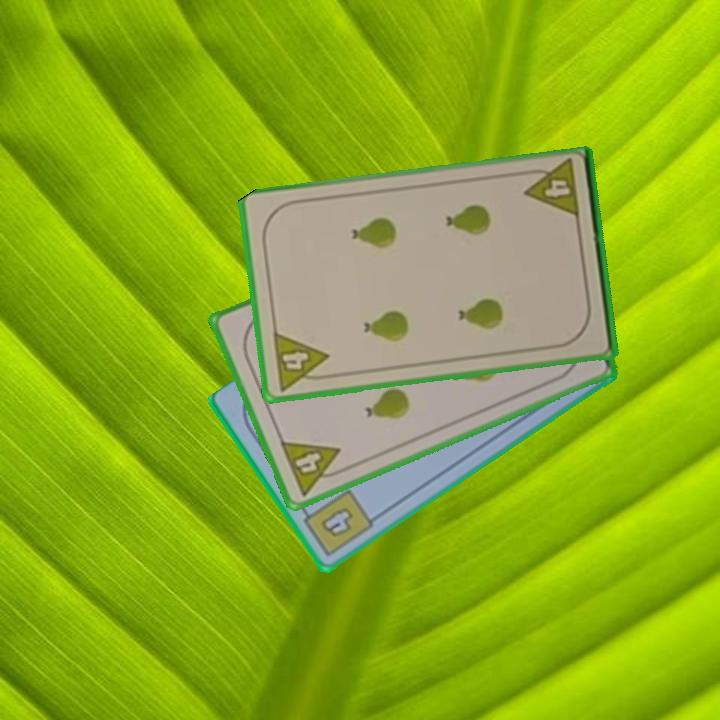4b: (296, 486, 377, 560)
4p: (276, 437, 351, 499), (269, 329, 334, 394), (520, 157, 583, 222)
